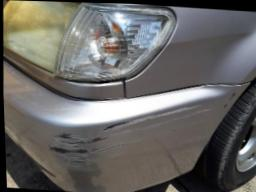Bumper: (15, 89, 214, 191)
Fender: (172, 6, 256, 88)
